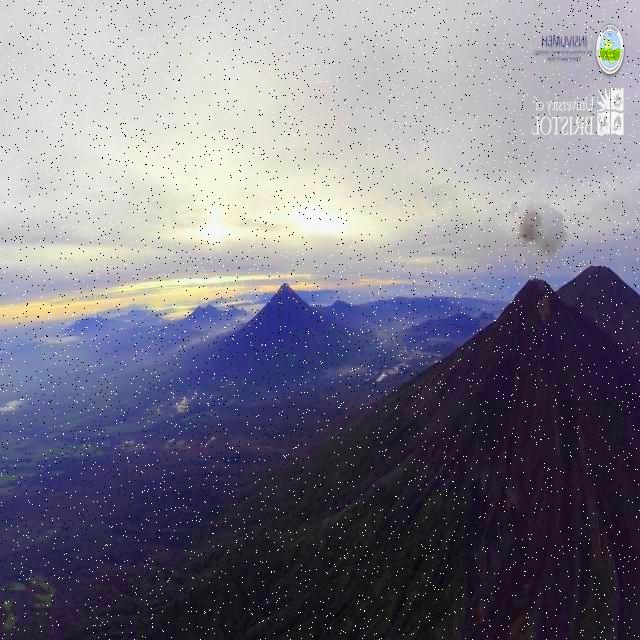Plume: (503, 196, 572, 261)
Summit: (448, 273, 616, 351)
